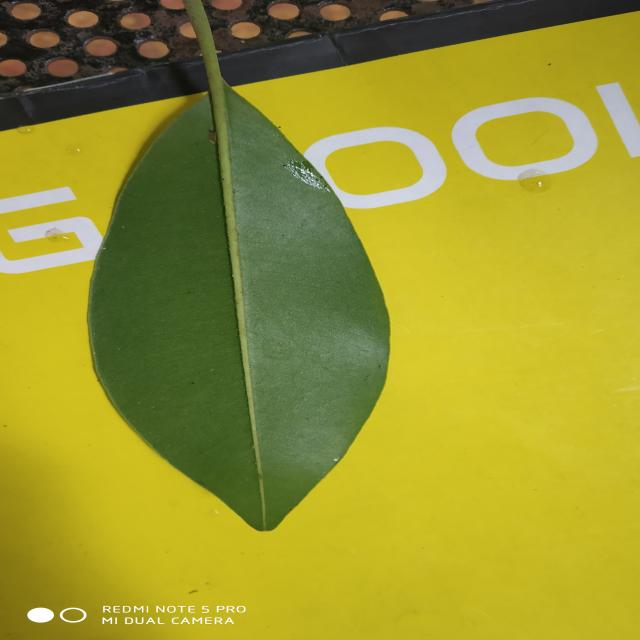sapota: (89, 55, 389, 530)
